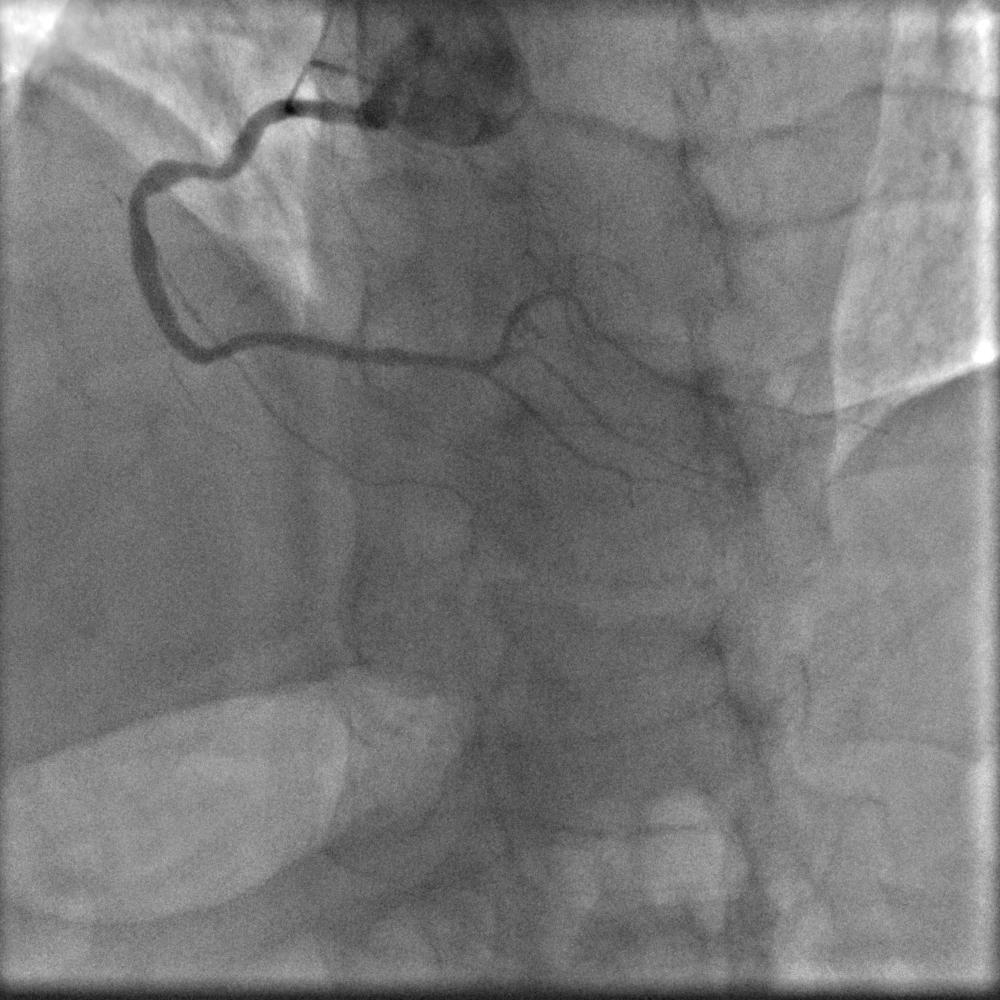Stenosis: (124, 183, 151, 220)
